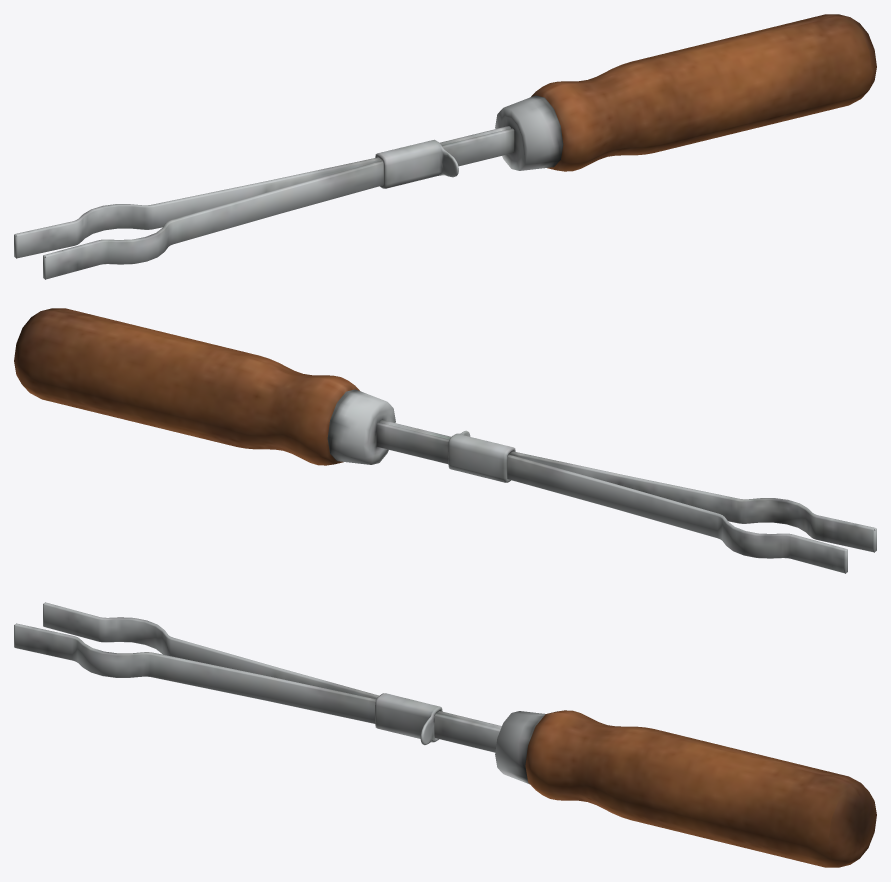
Rendered from clamp_tool.glb.
The picture shows the model from 3 angles, top to bottom: view 1: azimuth 30°, elevation 25°; view 2: azimuth 150°, elevation 25°; view 3: azimuth 330°, elevation 25°; orthographic projection.
Visible parts, largest first — view 1: chemistry_set_clamp_tool.001; view 2: chemistry_set_clamp_tool.001; view 3: chemistry_set_clamp_tool.001.
Part boxes in pixels (<box>): chemistry_set_clamp_tool.001: <box>14,14,876,279</box>; chemistry_set_clamp_tool.001: <box>14,308,876,573</box>; chemistry_set_clamp_tool.001: <box>14,602,876,867</box>.
Size of the model in its own units: 0.1844 by 0.018 by 0.018.
Materials: 1 (1 with a texture image).
